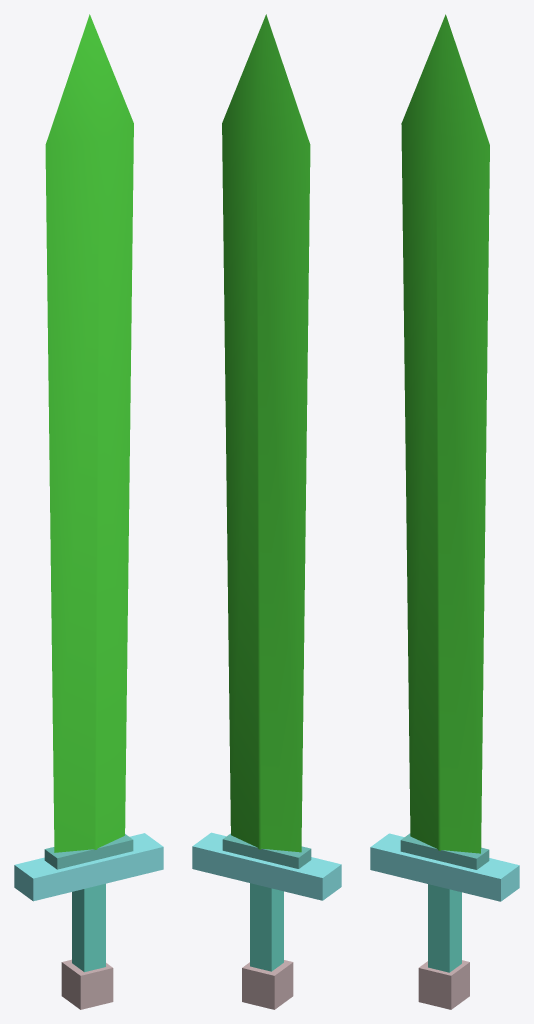
3 renders of one model, left to right at view 1: azimuth 30°, elevation 25°; view 2: azimuth 150°, elevation 25°; view 3: azimuth 330°, elevation 25°, orthographic.
Visible parts, largest first — view 1: Titanium Greatsword_Swordpart6Mtl.002_0, Titanium Greatsword_Swordpart1Mtl.008_0.006, Titanium Greatsword_Swordpart4Mtl.004_0, Titanium Greatsword_Swordpart1Mtl.008_0, Titanium Greatsword_Swordpart1Mtl.008_0.012; view 2: Titanium Greatsword_Swordpart6Mtl.002_0, Titanium Greatsword_Swordpart1Mtl.008_0.006, Titanium Greatsword_Swordpart4Mtl.004_0, Titanium Greatsword_Swordpart1Mtl.008_0, Titanium Greatsword_Swordpart1Mtl.008_0.012; view 3: Titanium Greatsword_Swordpart6Mtl.002_0, Titanium Greatsword_Swordpart1Mtl.008_0.006, Titanium Greatsword_Swordpart4Mtl.004_0, Titanium Greatsword_Swordpart1Mtl.008_0, Titanium Greatsword_Swordpart1Mtl.008_0.012.
Boxes of the visible parts, x1,y1,x2,y2 form: Titanium Greatsword_Swordpart6Mtl.002_0: (45, 14, 133, 852); Titanium Greatsword_Swordpart1Mtl.008_0.006: (14, 833, 163, 901); Titanium Greatsword_Swordpart4Mtl.004_0: (72, 883, 105, 972); Titanium Greatsword_Swordpart1Mtl.008_0: (61, 959, 113, 1009); Titanium Greatsword_Swordpart1Mtl.008_0.012: (44, 834, 133, 869); Titanium Greatsword_Swordpart6Mtl.002_0: (222, 14, 310, 852); Titanium Greatsword_Swordpart1Mtl.008_0.006: (192, 832, 341, 900); Titanium Greatsword_Swordpart4Mtl.004_0: (250, 883, 283, 971); Titanium Greatsword_Swordpart1Mtl.008_0: (242, 960, 293, 1009); Titanium Greatsword_Swordpart1Mtl.008_0.012: (222, 833, 311, 868); Titanium Greatsword_Swordpart6Mtl.002_0: (401, 14, 489, 853); Titanium Greatsword_Swordpart1Mtl.008_0.006: (370, 833, 519, 901); Titanium Greatsword_Swordpart4Mtl.004_0: (428, 884, 461, 972); Titanium Greatsword_Swordpart1Mtl.008_0: (418, 960, 469, 1009); Titanium Greatsword_Swordpart1Mtl.008_0.012: (400, 833, 489, 869).
Bounding box in the file's own units: 0.1386 × 1 × 0.0354.
